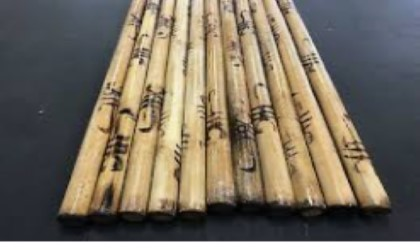baston_e: (278, 3, 388, 195), (261, 2, 350, 194), (61, 2, 143, 203), (246, 3, 324, 199), (96, 2, 158, 191), (234, 6, 294, 195), (119, 3, 173, 196), (218, 0, 263, 189), (149, 1, 191, 192), (202, 3, 238, 194), (176, 4, 206, 197)
baston_v: (354, 184, 400, 219), (118, 180, 152, 226), (202, 183, 240, 222), (88, 190, 123, 232), (146, 191, 180, 234), (53, 197, 91, 234), (265, 186, 300, 225), (238, 179, 268, 221), (296, 193, 330, 226), (180, 190, 208, 228), (328, 191, 362, 220)
